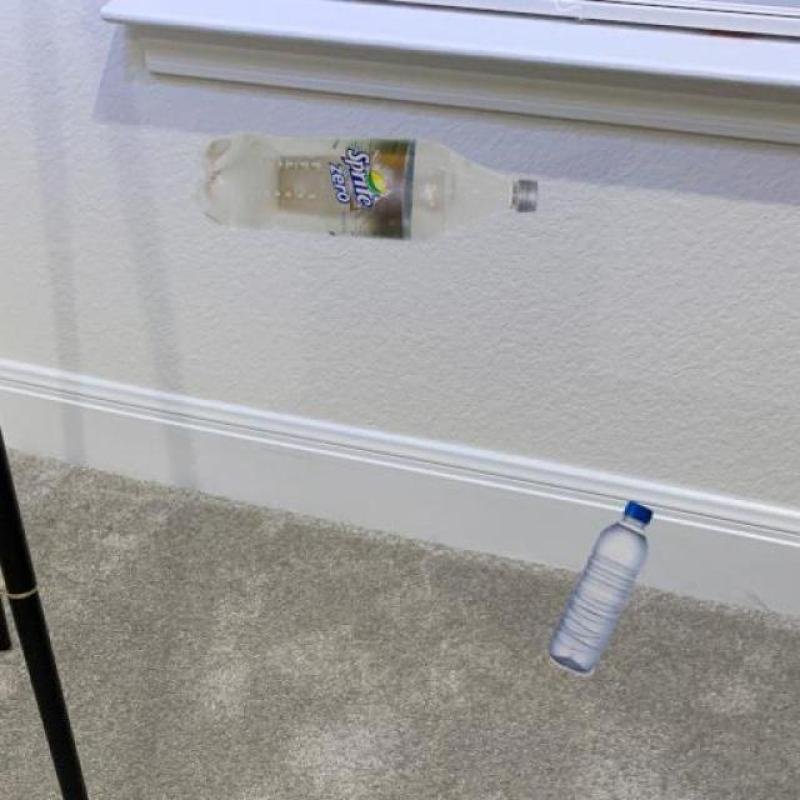botella: (199, 133, 536, 239), (547, 498, 654, 677)
